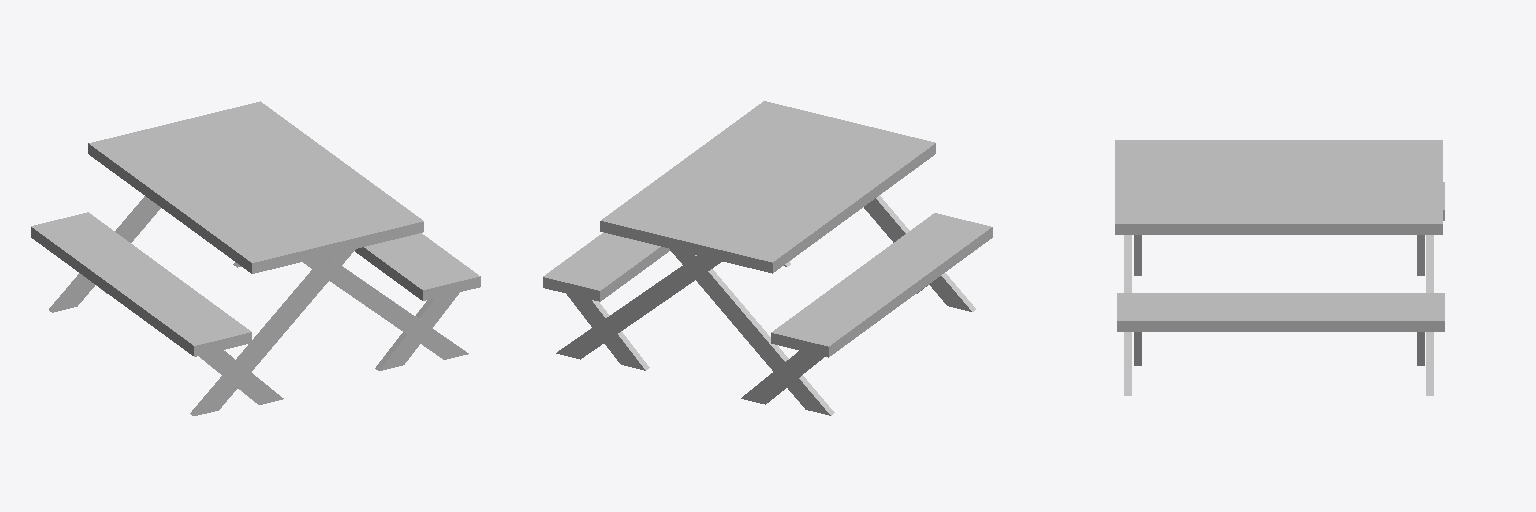
The model's file is wood table.obj.
3 views of the same model, side by side, from view 1: azimuth 30°, elevation 25°; view 2: azimuth 150°, elevation 25°; view 3: azimuth 270°, elevation 25° (orthographic).
Parts seen in each view (by area): view 1: Cube.001, Cube.002, Cube.003, Cube.005, Cube.007, Cube.008, Cube.012, Cube.011; view 2: Cube.001, Cube.002, Cube.003, Cube.008, Cube.006, Cube.005, Cube.010, Cube.009; view 3: Cube.001, Cube.003, Cube.006, Cube.007.
Part boxes in pixels (bbox=[...]): Cube.001: bbox=[88, 101, 423, 273]; Cube.002: bbox=[31, 212, 251, 356]; Cube.003: bbox=[355, 233, 480, 300]; Cube.005: bbox=[190, 249, 355, 415]; Cube.007: bbox=[303, 256, 468, 359]; Cube.008: bbox=[49, 196, 160, 312]; Cube.012: bbox=[199, 350, 283, 404]; Cube.011: bbox=[375, 292, 459, 370]; Cube.001: bbox=[600, 101, 935, 273]; Cube.002: bbox=[771, 213, 992, 357]; Cube.003: bbox=[543, 232, 669, 301]; Cube.008: bbox=[669, 248, 834, 415]; Cube.006: bbox=[556, 255, 722, 359]; Cube.005: bbox=[864, 195, 975, 311]; Cube.010: bbox=[741, 351, 823, 404]; Cube.009: bbox=[567, 294, 649, 370]; Cube.001: bbox=[1115, 140, 1442, 234]; Cube.003: bbox=[1117, 293, 1444, 331]; Cube.006: bbox=[1426, 235, 1433, 395]; Cube.007: bbox=[1124, 235, 1131, 395].
Size of the model in its own units: 1.51 by 0.7472 by 1.51.